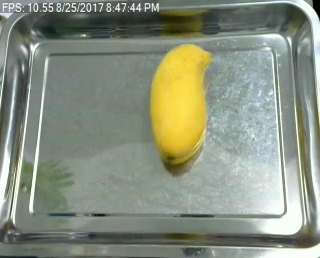Mango: (145, 38, 215, 167)
